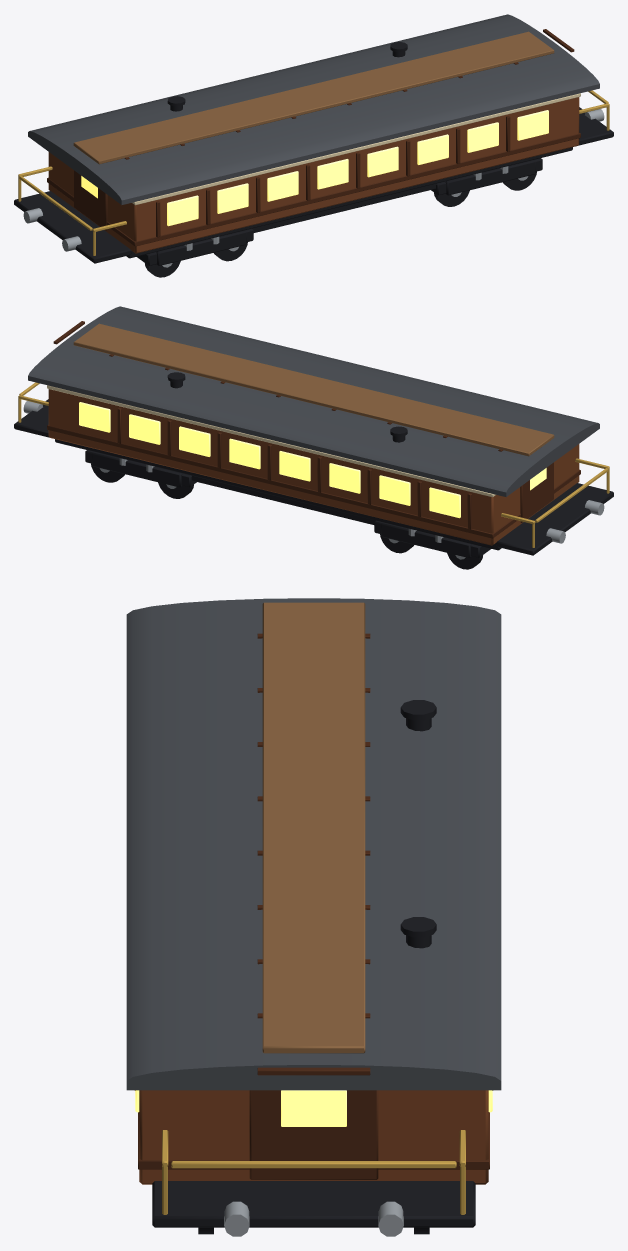
Rendered from coche.glb.
The picture shows the model from 3 angles, top to bottom: view 1: azimuth 30°, elevation 25°; view 2: azimuth 150°, elevation 25°; view 3: azimuth 270°, elevation 25°; orthographic projection. The views are drawn at different scales.
Visible parts, largest first — view 1: coche; view 2: coche; view 3: coche.
Part boxes in pixels (x1=…): coche: x1=14, y1=14, x2=613, y2=277; coche: x1=14, y1=306, x2=613, y2=569; coche: x1=126, y1=598, x2=501, y2=1236.
Size of the model in its own units: 4.82 by 1.04 by 1.46.
